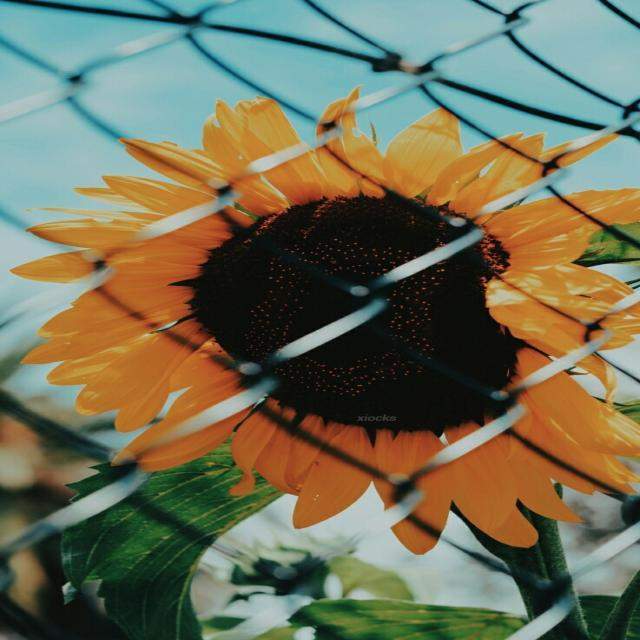sunflower: (9, 86, 638, 554)
